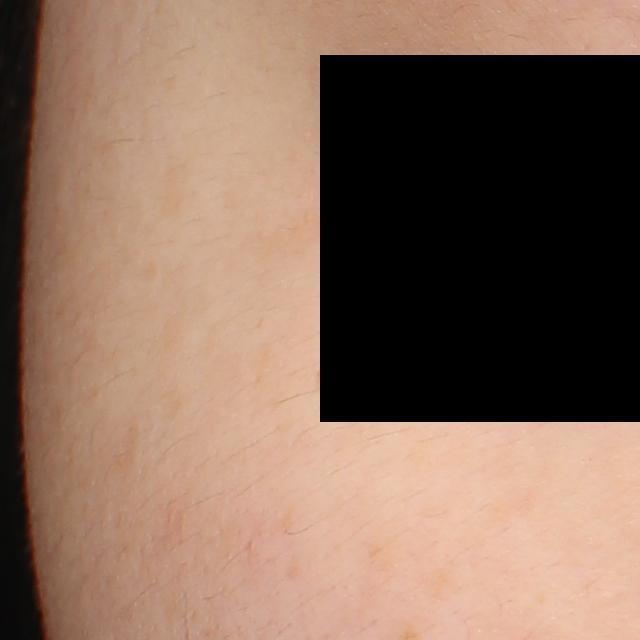melasma: (243, 210, 331, 267), (385, 427, 426, 493), (369, 515, 413, 575), (156, 164, 196, 217), (152, 310, 184, 375)
